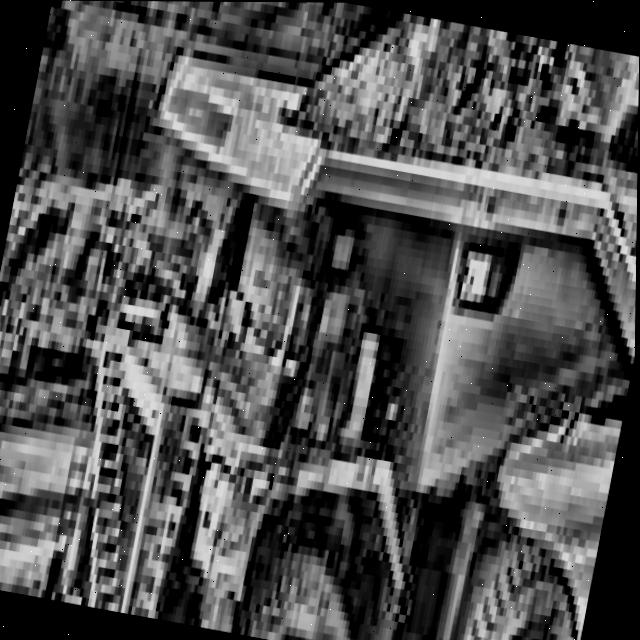dump_truck: (62, 0, 640, 640)
